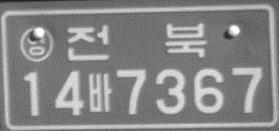1: (19, 70, 49, 117)
3: (155, 67, 186, 115)
4: (54, 69, 84, 115)
6: (192, 66, 225, 114)
7: (231, 66, 262, 113), (116, 68, 146, 115)
바: (86, 72, 113, 113)
영: (19, 26, 54, 62)
전북_D: (65, 22, 206, 62)
